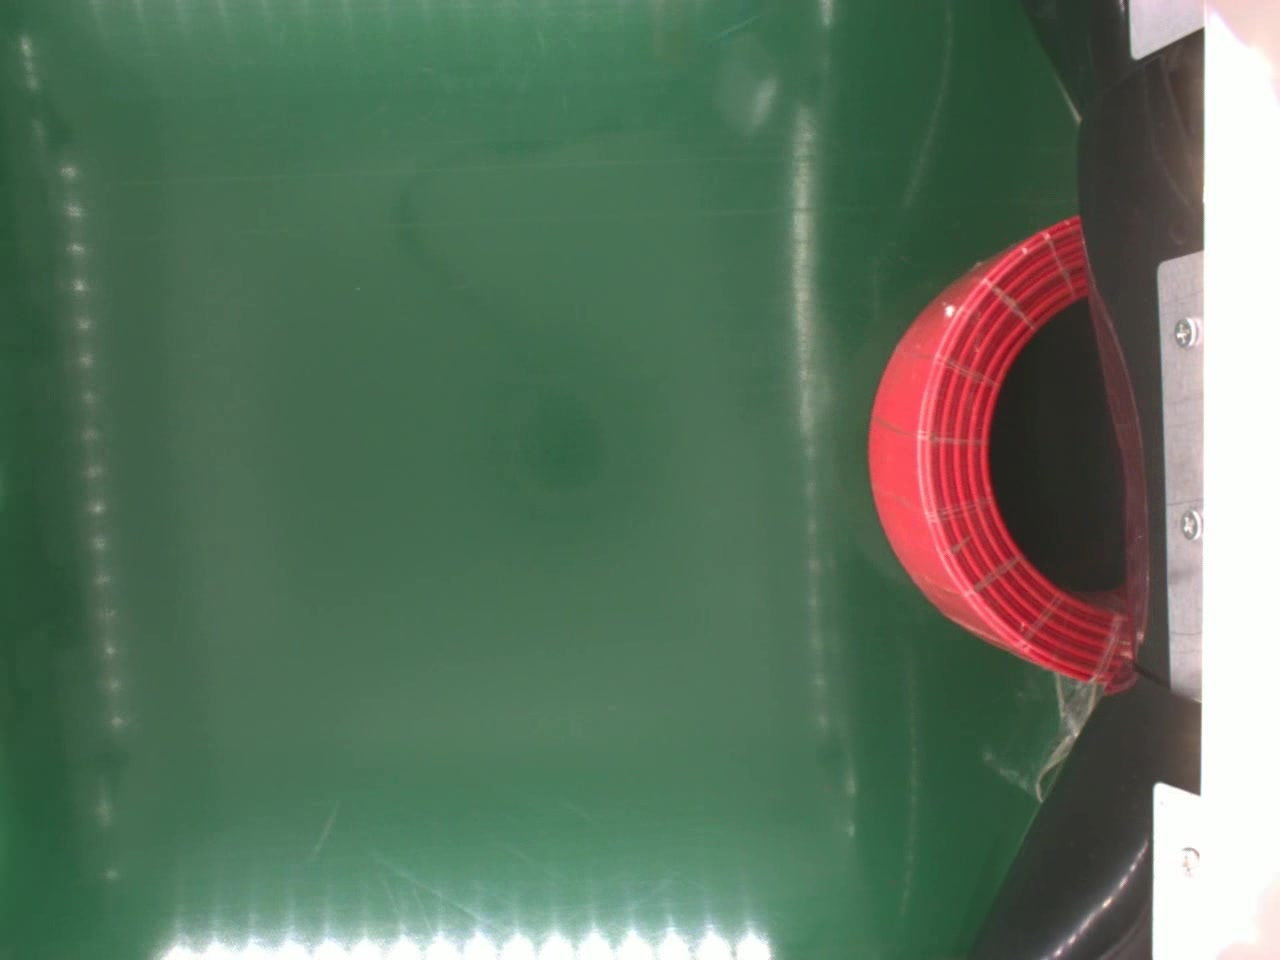red: (870, 210, 1130, 681)
